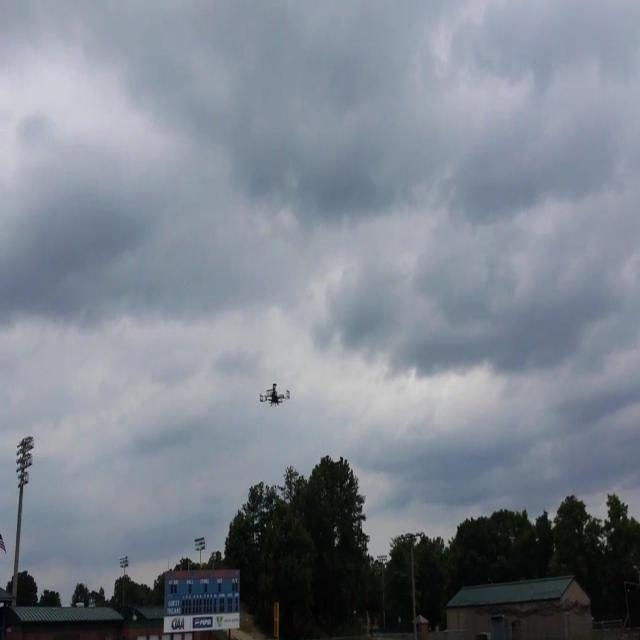UAV: (260, 383, 290, 407)
